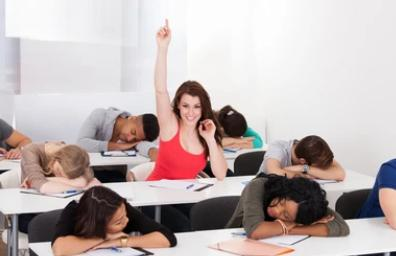sleep: (45, 187, 179, 250), (228, 171, 347, 237), (256, 134, 348, 185), (74, 107, 161, 154), (19, 139, 93, 194), (207, 106, 267, 149)
study: (150, 18, 228, 183)
